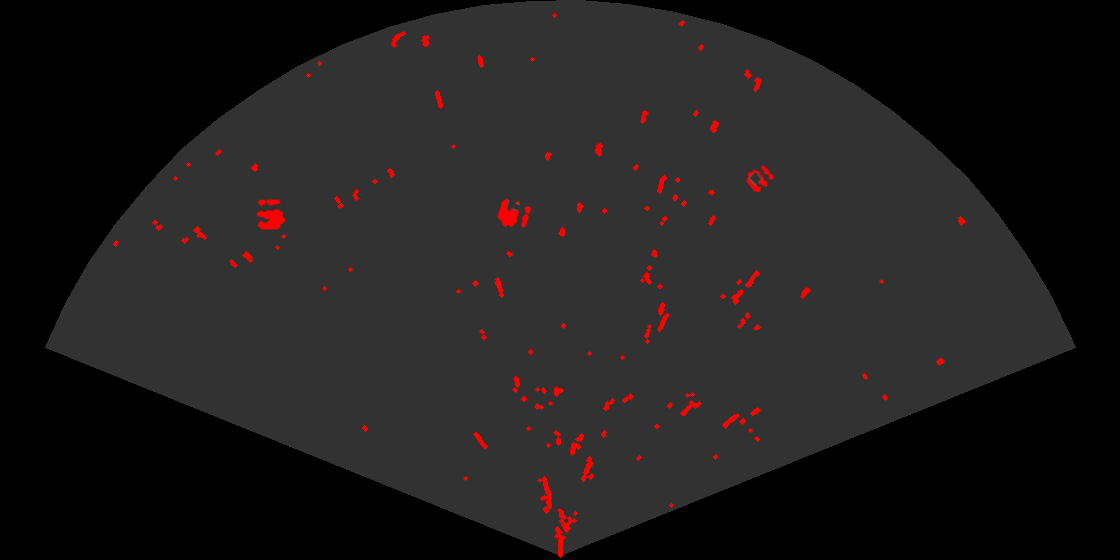ball: (496, 197, 533, 229), (255, 198, 287, 231), (745, 164, 776, 194)
